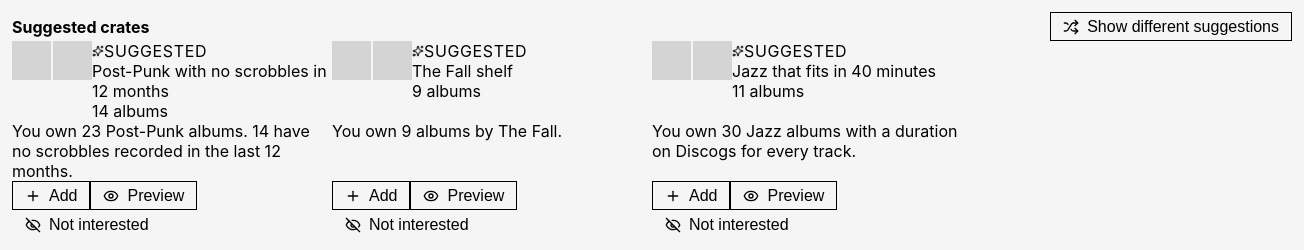
CrateSuggestions › keeps the current cards when a reroll is exhausted
Click the button "Show different suggestions" at {"x": 1171, "y": 27}, box [1050,12,1292,41]
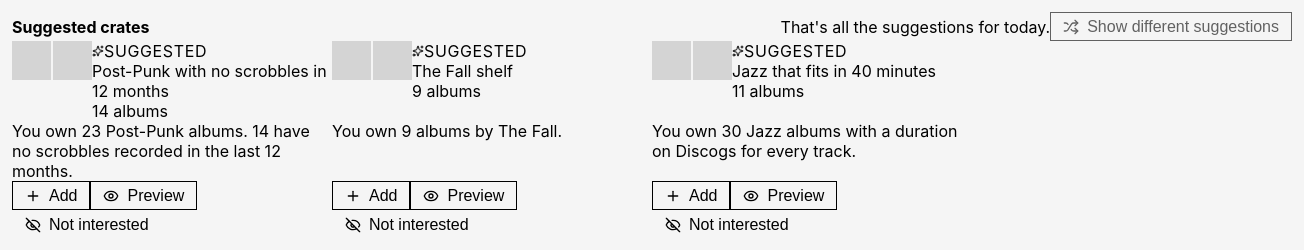
expect the heading "Post-Punk with no scrobbles in 12 months" is shown: met, box [92,61,332,101]
expect the text "That's all the suggestions for today." is shown: met, box [781,17,1050,37]
expect the button "Show different suggestions" is disabled: met, box [1050,12,1292,41]
